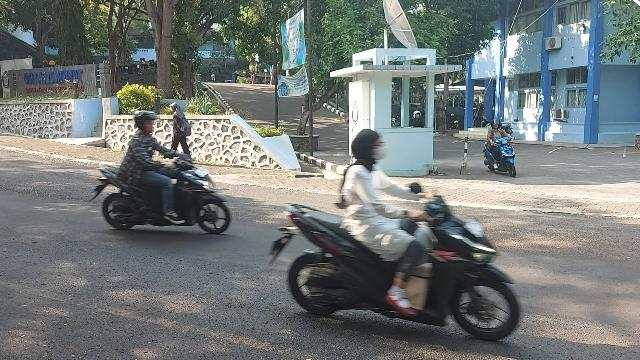helm: (136, 112, 161, 134), (493, 121, 502, 130)
motor: (269, 185, 521, 342), (91, 153, 233, 236), (484, 132, 517, 178)
non-helm: (353, 130, 386, 160)
